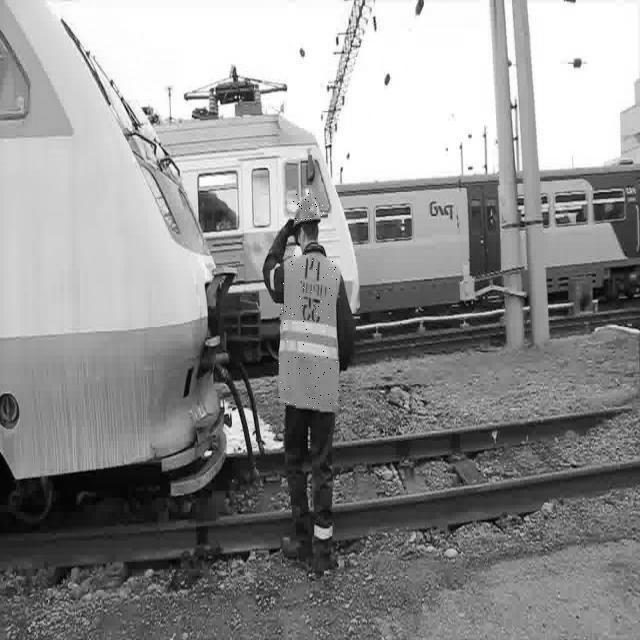10: (230, 163, 370, 588)
11: (277, 250, 341, 414)
2: (279, 181, 343, 260)
helmet_white: (267, 526, 338, 580)
